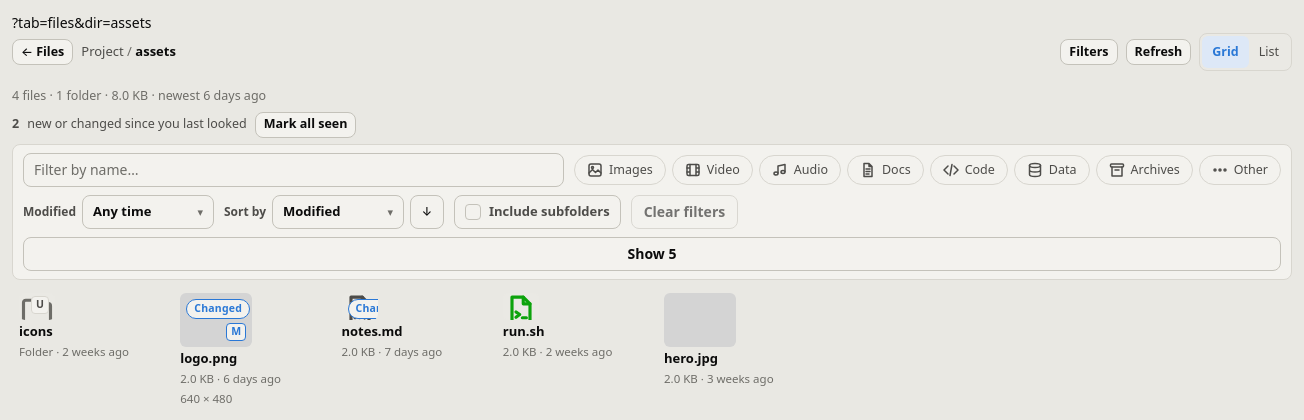
FolderView › marks what is new or changed since the last visit, and clears the marks on request
Expected: the text "2 new or changed since you last looked Mark all seen" is shown, [12,112,356,138]
What coordinates should you click on to do the following:
click the button "Mark all seen"
I would click on:
 (306, 125)
Its box is [255,112,356,138].
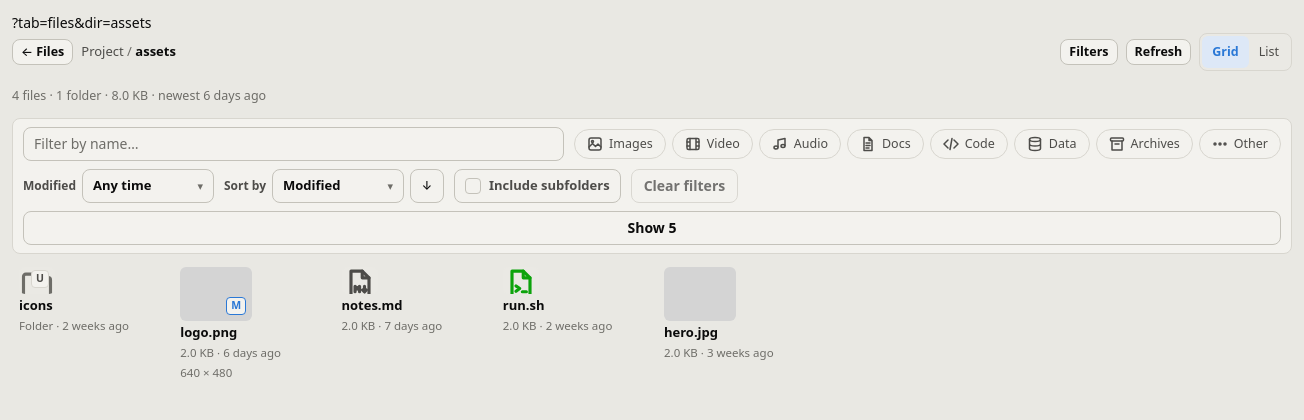
Now the text "changed" is not shown
